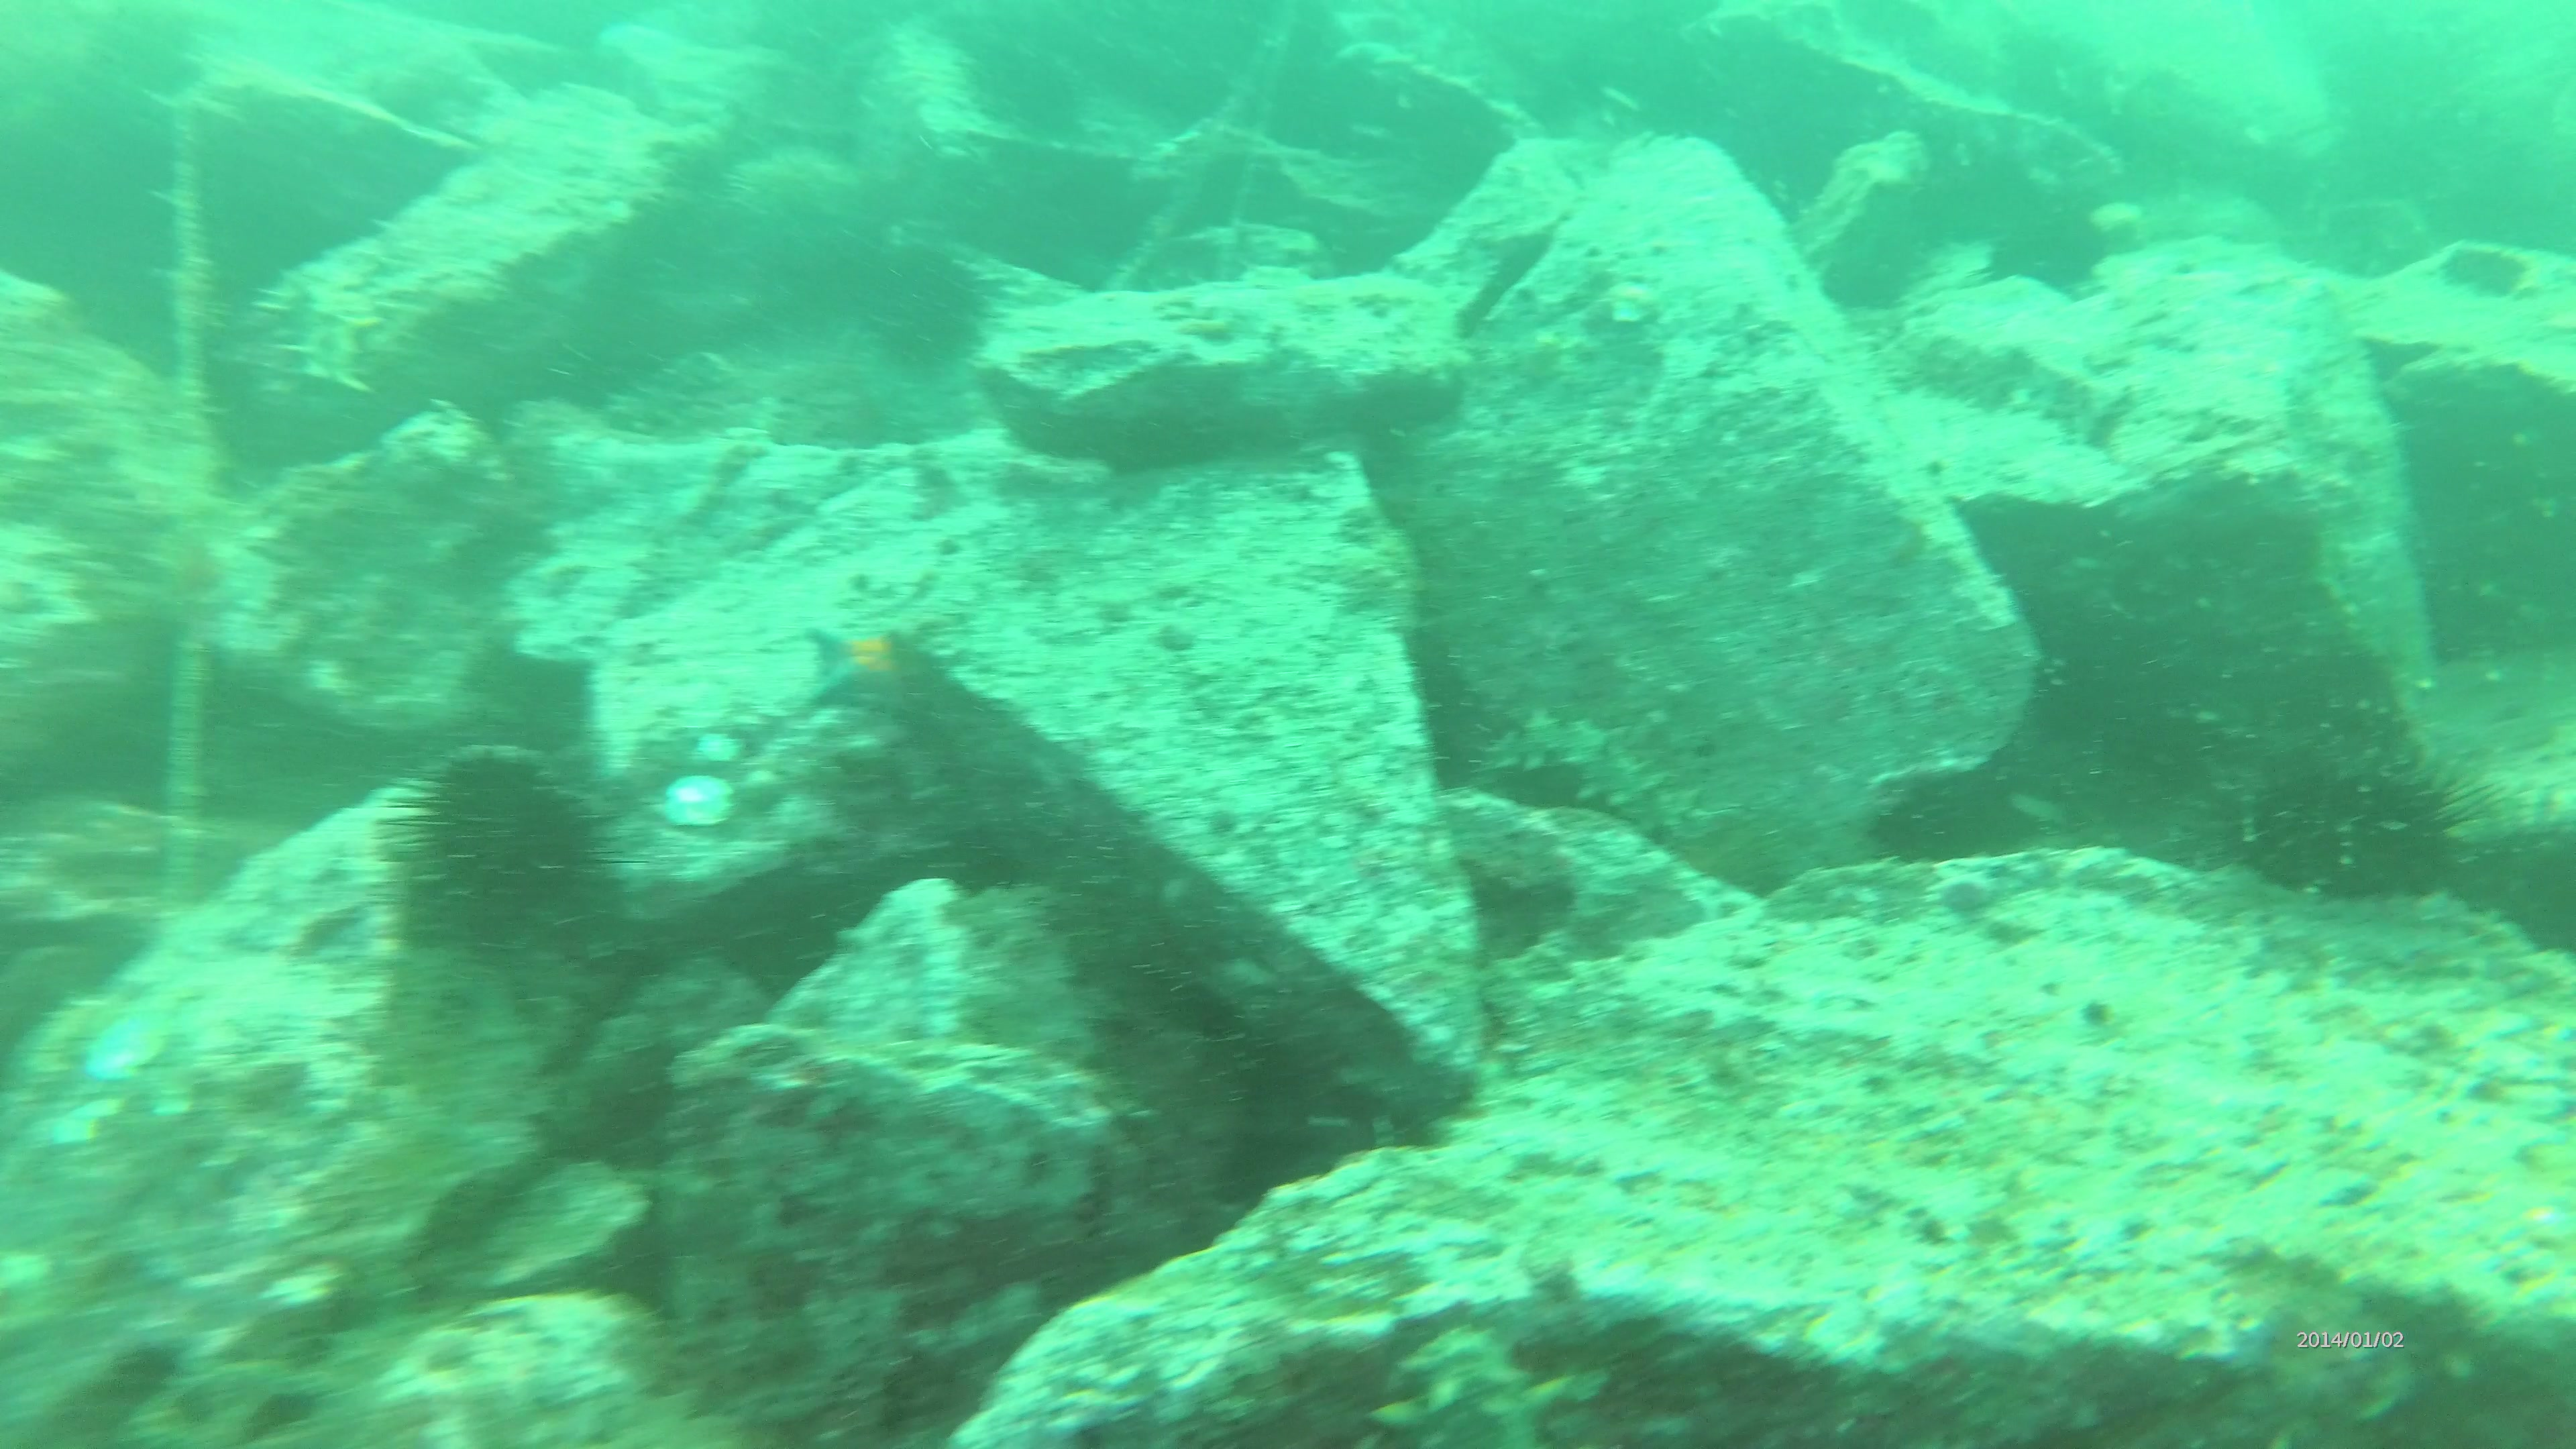echinus: (384, 729, 617, 957), (2233, 717, 2493, 904), (1874, 747, 2047, 872), (855, 244, 996, 380)
holothurian: (1476, 695, 1702, 858), (1384, 1315, 1571, 1449), (257, 234, 398, 402)
starfish: (803, 610, 908, 717)
